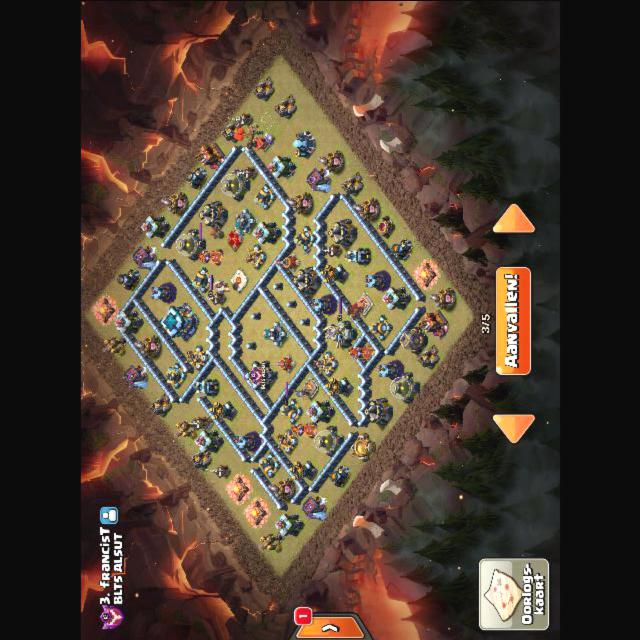AD: (320, 263, 349, 283), (324, 377, 353, 397), (208, 400, 237, 420), (288, 460, 317, 480)
AirSweeper: (276, 254, 299, 272), (274, 354, 294, 372)
BombTower: (344, 248, 371, 264), (192, 379, 219, 395)
Canon: (279, 398, 303, 424), (369, 315, 392, 341), (257, 452, 280, 478), (293, 225, 316, 251), (164, 362, 186, 388), (190, 267, 212, 293), (253, 184, 275, 210)
ClanCastle: (242, 360, 276, 389)
Eagle: (322, 320, 357, 348)
Inferno: (348, 344, 374, 360), (197, 249, 223, 265), (290, 422, 316, 438)
KingPad: (356, 291, 372, 314)
Mortar: (117, 267, 140, 290), (328, 465, 350, 487), (390, 238, 412, 260), (184, 166, 206, 188)
QueenPad: (226, 226, 243, 250)
RcPad: (303, 378, 318, 396)
Scattershot: (260, 321, 286, 346), (232, 210, 255, 236)
TH13: (158, 304, 198, 337)
WardenPad: (230, 269, 246, 290)
WizzTower: (232, 432, 258, 452), (148, 283, 175, 302), (309, 295, 335, 314), (362, 271, 388, 290), (376, 361, 402, 380)
Xbow: (184, 346, 207, 372), (314, 352, 337, 377), (243, 245, 266, 269), (274, 429, 296, 454)
